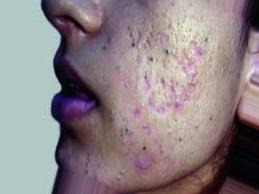Acne: (112, 13, 209, 180)
